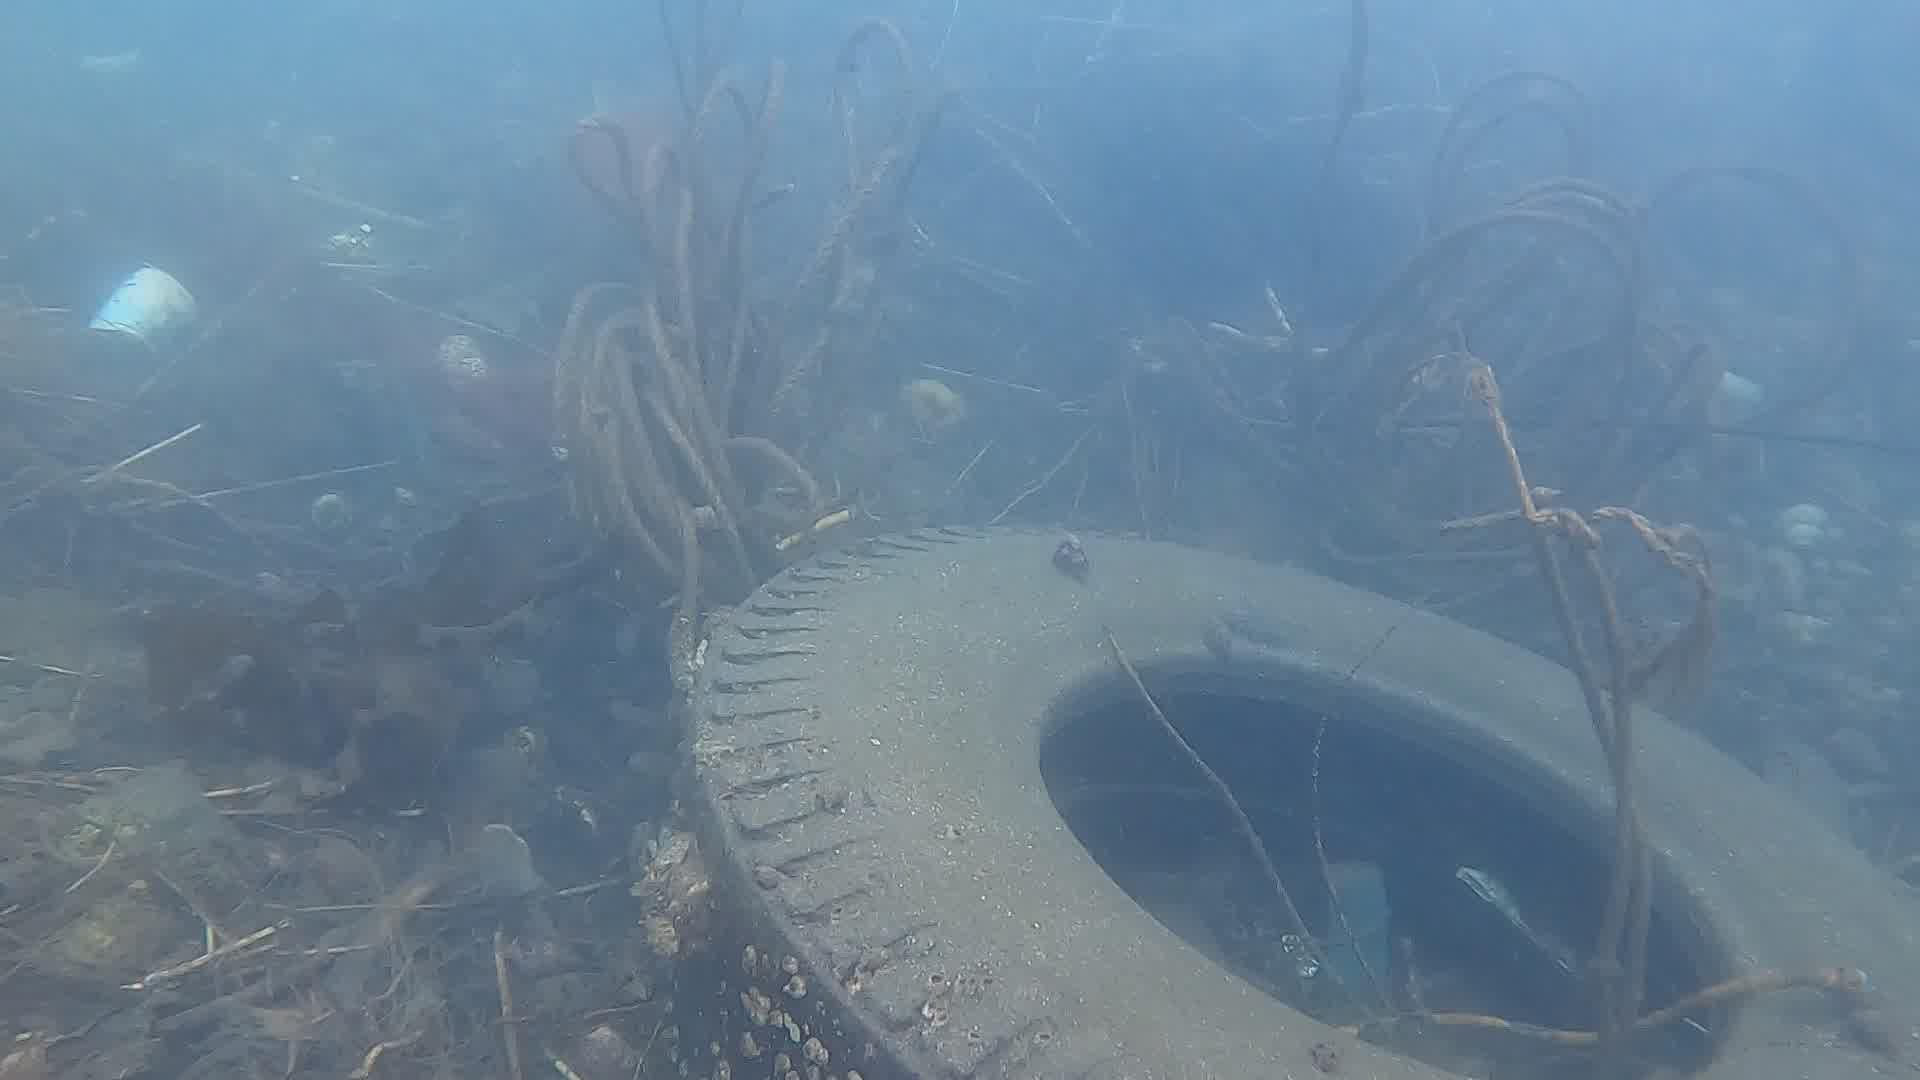bundle of ropes: (1315, 69, 1865, 567), (1441, 410, 1836, 1047), (555, 0, 918, 597)
tire: (686, 516, 1920, 1080)
